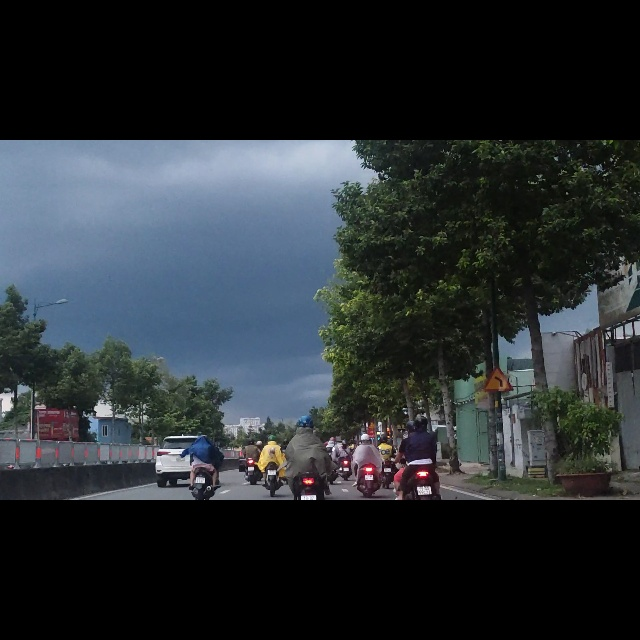bien_nguy_hiem: (482, 401, 514, 448)
